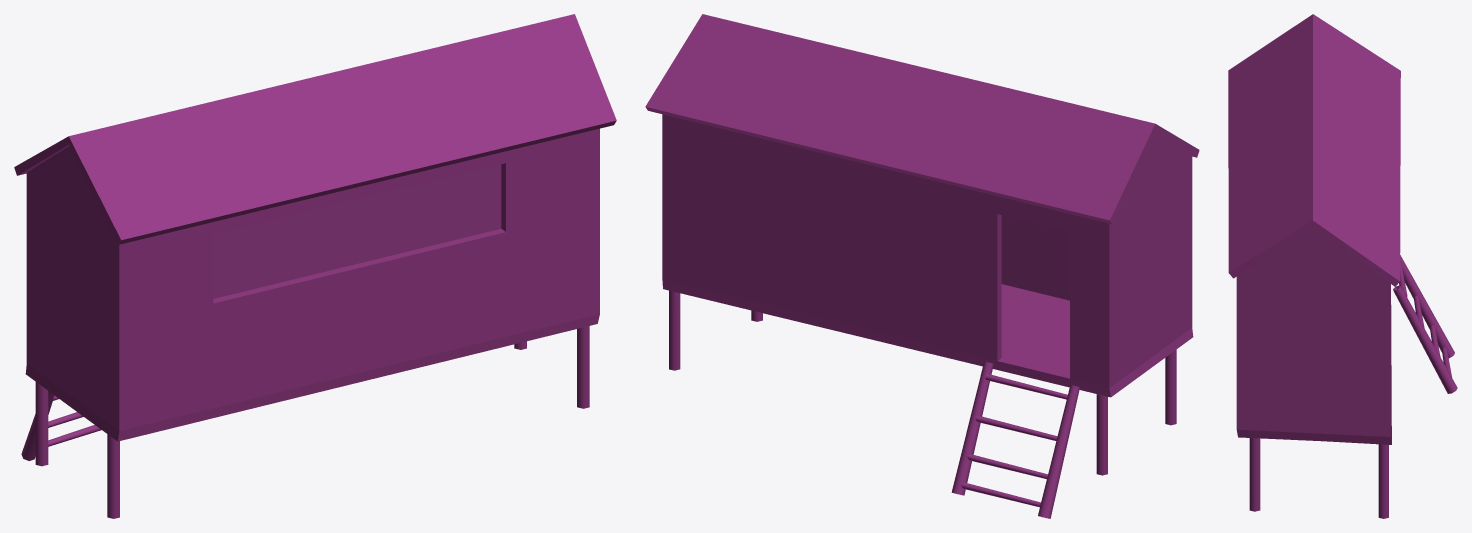
File: cabanon_1970z.fbx
3 views of the same model, side by side, from view 1: azimuth 30°, elevation 25°; view 2: azimuth 150°, elevation 25°; view 3: azimuth 270°, elevation 25° (orthographic). The views are drawn at different scales.
Visible parts, largest first — view 1: cabanon; view 2: cabanon; view 3: cabanon.
Boxes of the visible parts, x1,y1,x2,y2 form: cabanon: [14, 14, 616, 518]; cabanon: [645, 14, 1199, 518]; cabanon: [1228, 14, 1457, 518].
Bounding box in the file's own units: 9.38 × 6.78 × 4.32.
